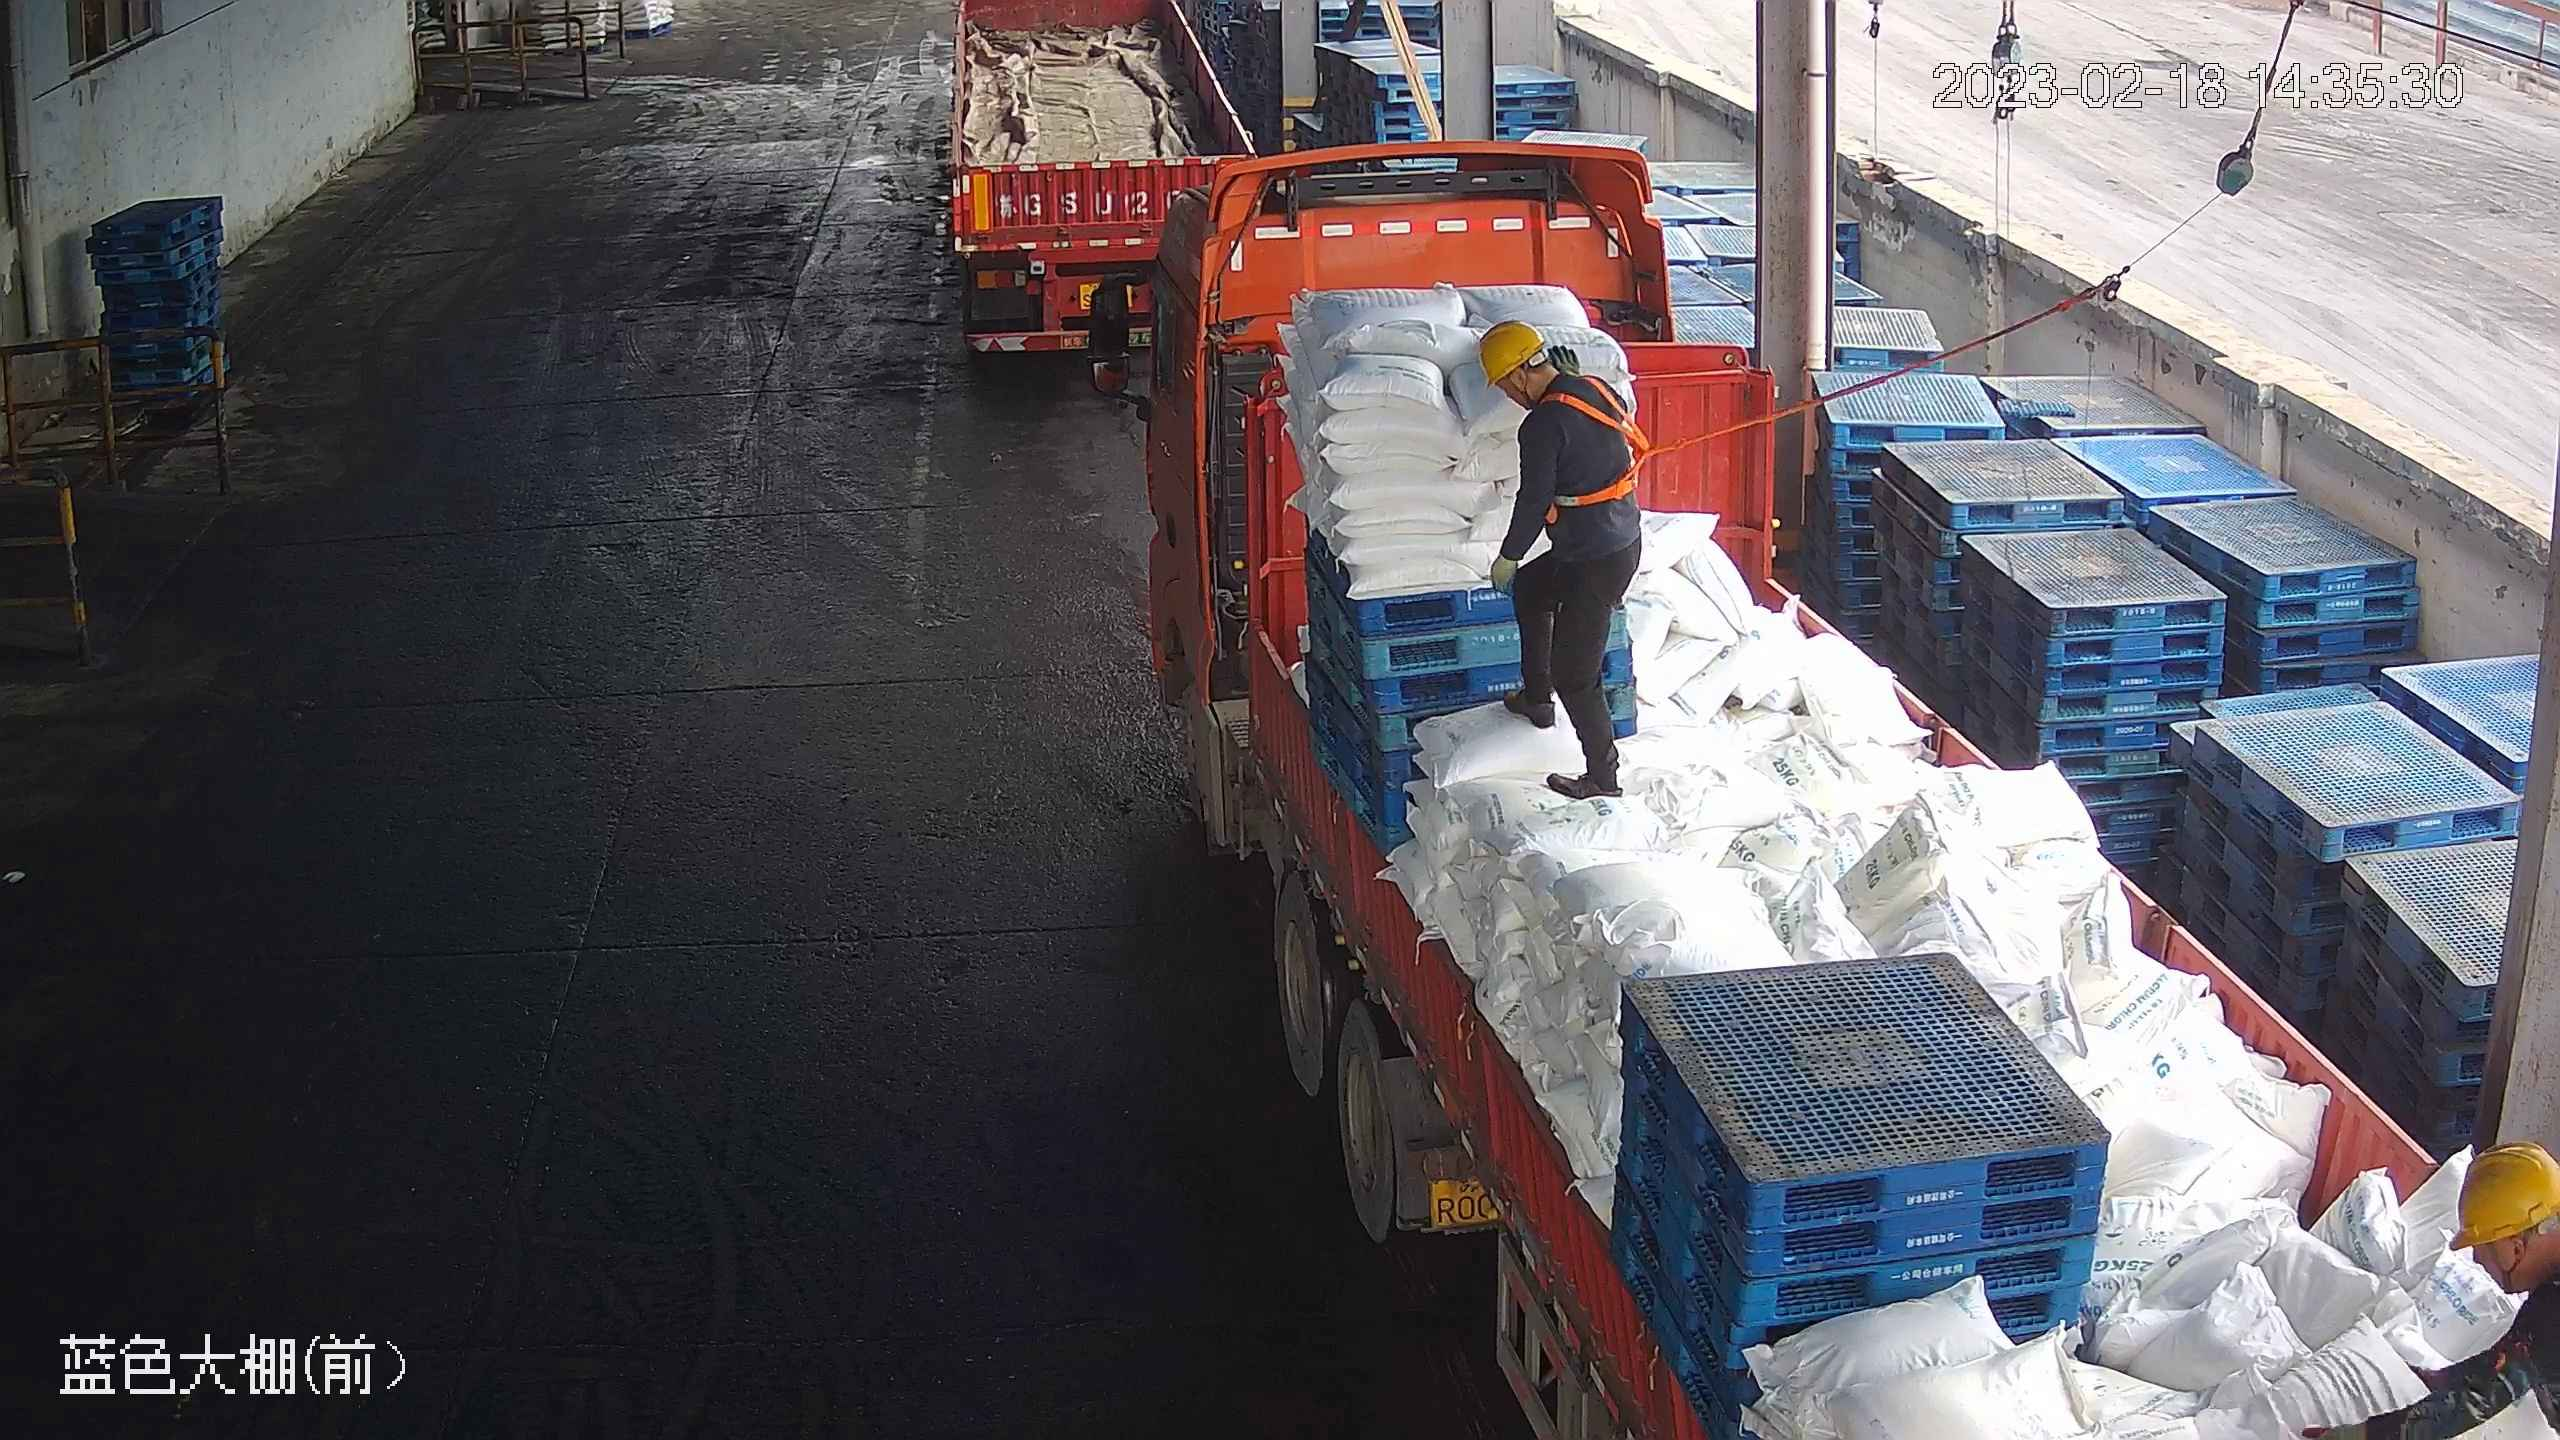belt: (1544, 371, 1657, 518)
head: (1479, 323, 1635, 484)
helmet: (2449, 1139, 2560, 1249), (1478, 320, 1552, 386)
people: (1478, 318, 1637, 800)
truck: (1140, 127, 2560, 1440), (944, 1, 1259, 396)
